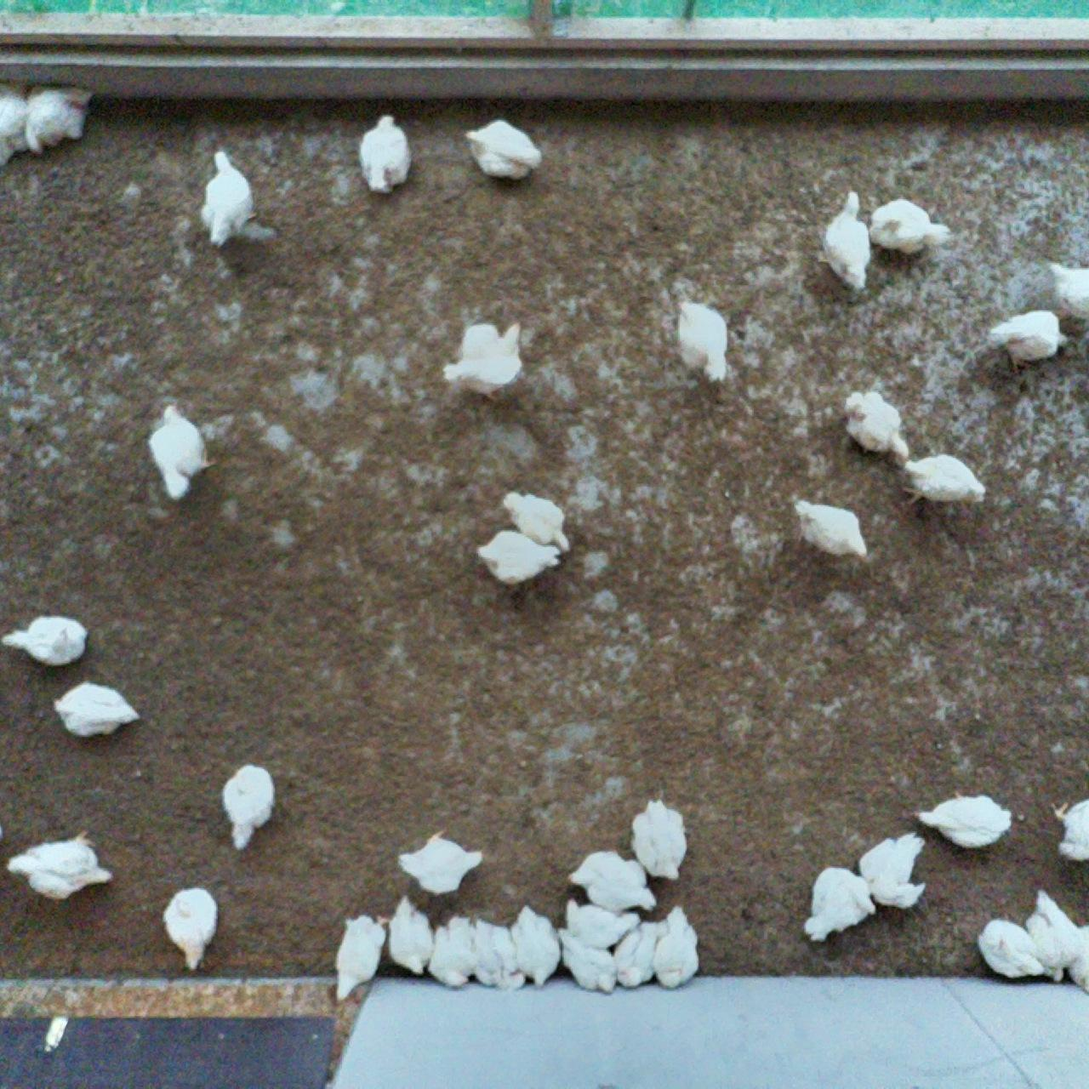chicken: (8, 829, 114, 900), (150, 403, 223, 499), (445, 320, 524, 405), (814, 190, 877, 290), (397, 826, 483, 895), (908, 792, 1012, 849), (200, 152, 263, 246), (803, 865, 875, 945), (569, 847, 657, 911), (989, 308, 1073, 374), (53, 681, 139, 742), (861, 831, 929, 907), (475, 529, 564, 587), (792, 496, 869, 562), (24, 82, 94, 154), (1028, 888, 1080, 983), (463, 117, 541, 180), (901, 450, 987, 507), (869, 197, 952, 256), (222, 760, 275, 850), (844, 391, 911, 462), (500, 486, 573, 551), (676, 297, 731, 383), (163, 885, 218, 969), (632, 801, 689, 882), (334, 914, 387, 999), (3, 613, 86, 667), (613, 915, 672, 990), (470, 917, 526, 995), (512, 907, 562, 990), (361, 117, 413, 194), (653, 908, 701, 991), (980, 921, 1051, 977), (559, 928, 619, 993), (562, 899, 643, 947), (388, 895, 433, 977), (432, 915, 479, 990), (0, 79, 35, 166), (1051, 796, 1089, 863), (1048, 260, 1089, 321), (1064, 915, 1089, 994)
